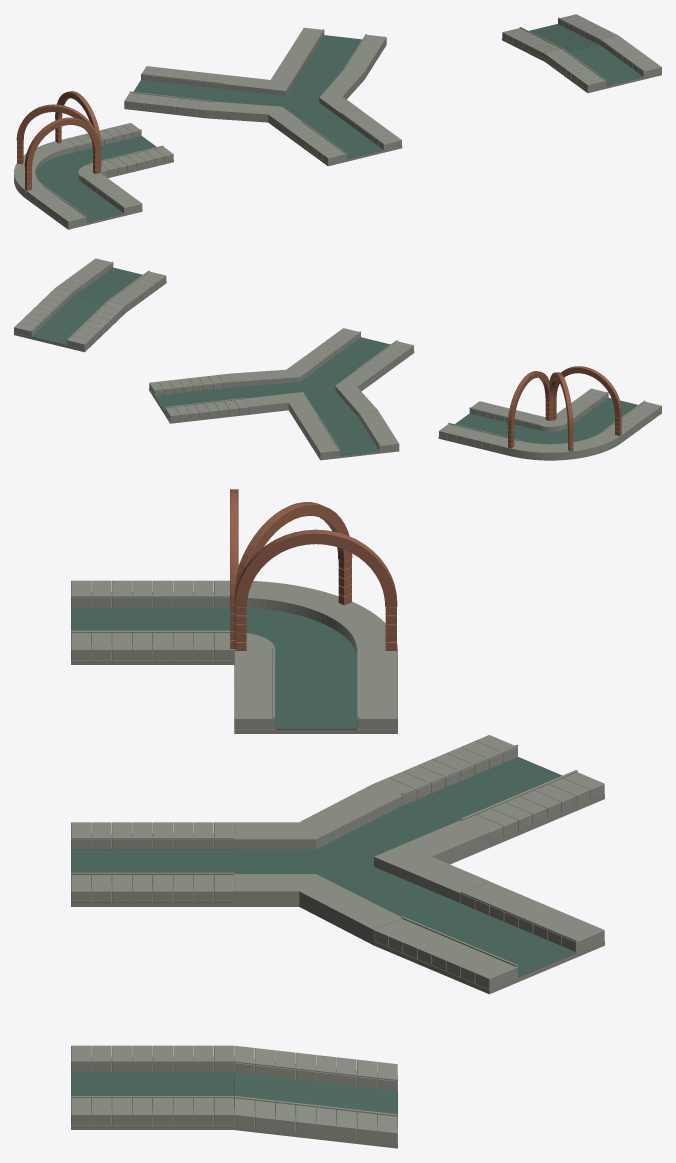
File: undercity-sewers-and-thieves-den-curves-forks-and-slop-19d757be__27262.glb
3 views of the same model, one above another, from view 1: azimuth 30°, elevation 25°; view 2: azimuth 150°, elevation 25°; view 3: azimuth 270°, elevation 25° (orthographic). The views are drawn at different scales.
Visible parts, largest first — view 1: 003-y-fork/2, 003-y-fork/1, 000-brick-barrel-curve/3, 005-brick-barrel-open-cutaway/2, 008-brick-barrel-open-cutaway/2, 004-brick-barrel-open-cutaway/2, 001-brick-barrel-open-cutaway/2, 002-brick-barrel-open-cutaway/2, 006-brick-barrel-open-cutaway/2, 007-brick-channel-slope/2, 006-brick-barrel-open-cutaway/1, 001-brick-barrel-open-cutaway/1 (+10 smaller); view 2: 003-y-fork/2, 003-y-fork/1, 000-brick-barrel-curve/3, 007-brick-channel-slope/2, 006-brick-barrel-open-cutaway/2, 002-brick-barrel-open-cutaway/2, 000-brick-barrel-curve/2, 005-brick-barrel-open-cutaway/2, 008-brick-barrel-open-cutaway/2, 004-brick-barrel-open-cutaway/2, 001-brick-barrel-open-cutaway/2, 007-brick-channel-slope/1 (+10 smaller); view 3: 003-y-fork/2, 003-y-fork/1, 008-brick-barrel-open-cutaway/2, 007-brick-channel-slope/2, 004-brick-barrel-open-cutaway/2, 001-brick-barrel-open-cutaway/2, 006-brick-barrel-open-cutaway/2, 000-brick-barrel-curve/3, 005-brick-barrel-open-cutaway/2, 002-brick-barrel-open-cutaway/2, 002-brick-barrel-open-cutaway/1, 000-brick-barrel-curve/2 (+16 smaller).
Part boxes in pixels (x1,y1,x2,y2): 003-y-fork/2: (207, 62, 364, 134); 003-y-fork/1: (216, 70, 340, 125); 000-brick-barrel-curve/3: (16, 91, 101, 190); 005-brick-barrel-open-cutaway/2: (124, 66, 228, 115); 008-brick-barrel-open-cutaway/2: (545, 36, 661, 90); 004-brick-barrel-open-cutaway/2: (285, 109, 401, 163); 001-brick-barrel-open-cutaway/2: (25, 173, 142, 227); 002-brick-barrel-open-cutaway/2: (60, 123, 173, 176); 006-brick-barrel-open-cutaway/2: (282, 27, 386, 76); 007-brick-channel-slope/2: (502, 14, 618, 59); 006-brick-barrel-open-cutaway/1: (302, 35, 361, 74); 001-brick-barrel-open-cutaway/1: (50, 182, 123, 222); 003-y-fork/2: (228, 358, 377, 426); 003-y-fork/1: (233, 367, 357, 421); 000-brick-barrel-curve/3: (507, 366, 621, 451); 007-brick-channel-slope/2: (14, 288, 125, 349); 006-brick-barrel-open-cutaway/2: (149, 374, 248, 421); 002-brick-barrel-open-cutaway/2: (439, 401, 546, 453); 000-brick-barrel-curve/2: (509, 419, 620, 458); 005-brick-barrel-open-cutaway/2: (299, 410, 399, 457); 008-brick-barrel-open-cutaway/2: (55, 258, 166, 310); 004-brick-barrel-open-cutaway/2: (303, 328, 413, 380); 001-brick-barrel-open-cutaway/2: (556, 388, 661, 440); 007-brick-channel-slope/1: (32, 297, 102, 345); 003-y-fork/2: (234, 783, 489, 945); 003-y-fork/1: (234, 806, 460, 921); 008-brick-barrel-open-cutaway/2: (71, 1045, 234, 1125); 007-brick-channel-slope/2: (234, 1045, 397, 1143); 004-brick-barrel-open-cutaway/2: (71, 822, 234, 902); 001-brick-barrel-open-cutaway/2: (71, 580, 234, 660); 006-brick-barrel-open-cutaway/2: (374, 881, 604, 989); 000-brick-barrel-curve/3: (230, 489, 397, 650); 005-brick-barrel-open-cutaway/2: (374, 735, 604, 842); 002-brick-barrel-open-cutaway/2: (234, 649, 397, 729); 002-brick-barrel-open-cutaway/1: (275, 659, 356, 729); 000-brick-barrel-curve/2: (234, 581, 397, 657).
Size of the model in its own units: 32 by 3.61 by 13.07.
